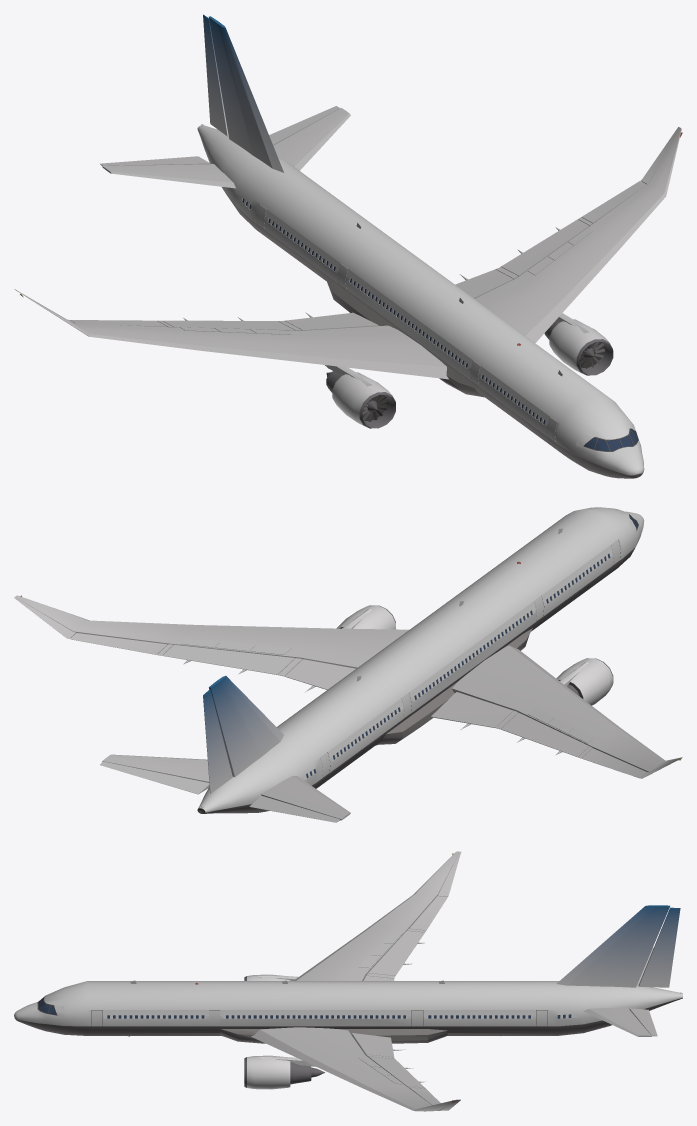
File: airbus-a350-1000.glb
The picture shows the model from 3 angles, top to bottom: view 1: azimuth 30°, elevation 25°; view 2: azimuth 150°, elevation 25°; view 3: azimuth 270°, elevation 25°; orthographic projection. The views are drawn at different scales.
Bounding box in the file's own units: 64.75 × 17.19 × 73.78.
